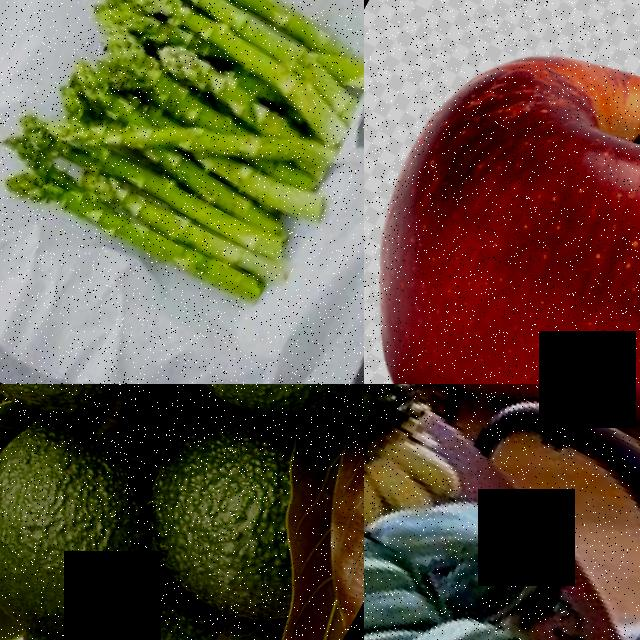apple: (364, 0, 640, 384)
asparagus: (0, 153, 270, 327), (37, 114, 289, 265), (77, 158, 297, 295), (141, 0, 326, 108), (141, 140, 316, 250), (132, 0, 330, 65), (223, 152, 346, 238), (135, 0, 342, 41)
avocado: (94, 384, 364, 640), (0, 391, 189, 640), (0, 527, 255, 640)
banana: (365, 476, 509, 594), (364, 582, 499, 640), (375, 424, 477, 496), (364, 510, 412, 640), (364, 462, 435, 513), (364, 480, 389, 514)
